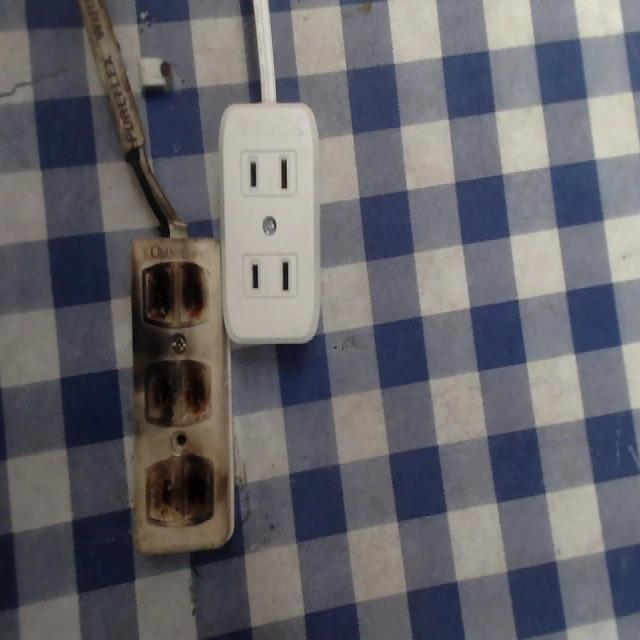-: (139, 452, 219, 533), (134, 252, 214, 329), (137, 355, 218, 428)
